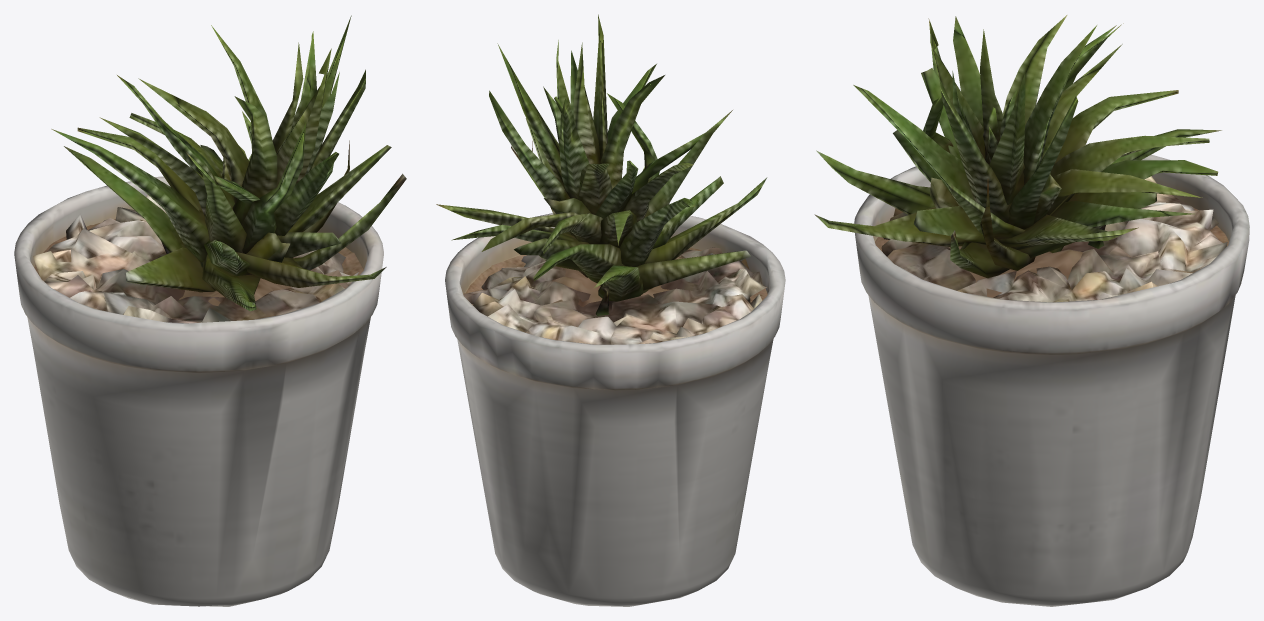
Rendered from potted_plant_04.gltf.
3 renders of one model, left to right at view 1: azimuth 30°, elevation 25°; view 2: azimuth 150°, elevation 25°; view 3: azimuth 270°, elevation 25°, orthographic. The views are drawn at different scales.
Parts seen in each view (by area): view 1: potted_plant_04_pot, potted_plant_04_plant, potted_plant_04_ground, potted_plant_04_dirt; view 2: potted_plant_04_pot, potted_plant_04_plant, potted_plant_04_ground, potted_plant_04_dirt; view 3: potted_plant_04_pot, potted_plant_04_plant, potted_plant_04_ground, potted_plant_04_dirt.
Boxes of the visible parts, <box> form: potted_plant_04_pot: <box>14,176,383,606</box>; potted_plant_04_plant: <box>51,15,406,311</box>; potted_plant_04_ground: <box>33,195,358,323</box>; potted_plant_04_dirt: <box>34,219,363,305</box>; potted_plant_04_pot: <box>445,213,785,606</box>; potted_plant_04_plant: <box>436,14,767,315</box>; potted_plant_04_ground: <box>463,247,767,344</box>; potted_plant_04_dirt: <box>463,247,767,306</box>; potted_plant_04_pot: <box>854,144,1249,606</box>; potted_plant_04_plant: <box>814,15,1221,278</box>; potted_plant_04_ground: <box>881,176,1227,302</box>; potted_plant_04_dirt: <box>875,208,1228,297</box>.
Size of the model in its own units: 0.1672 by 0.2672 by 0.1838.
1 material, 1 textured.
